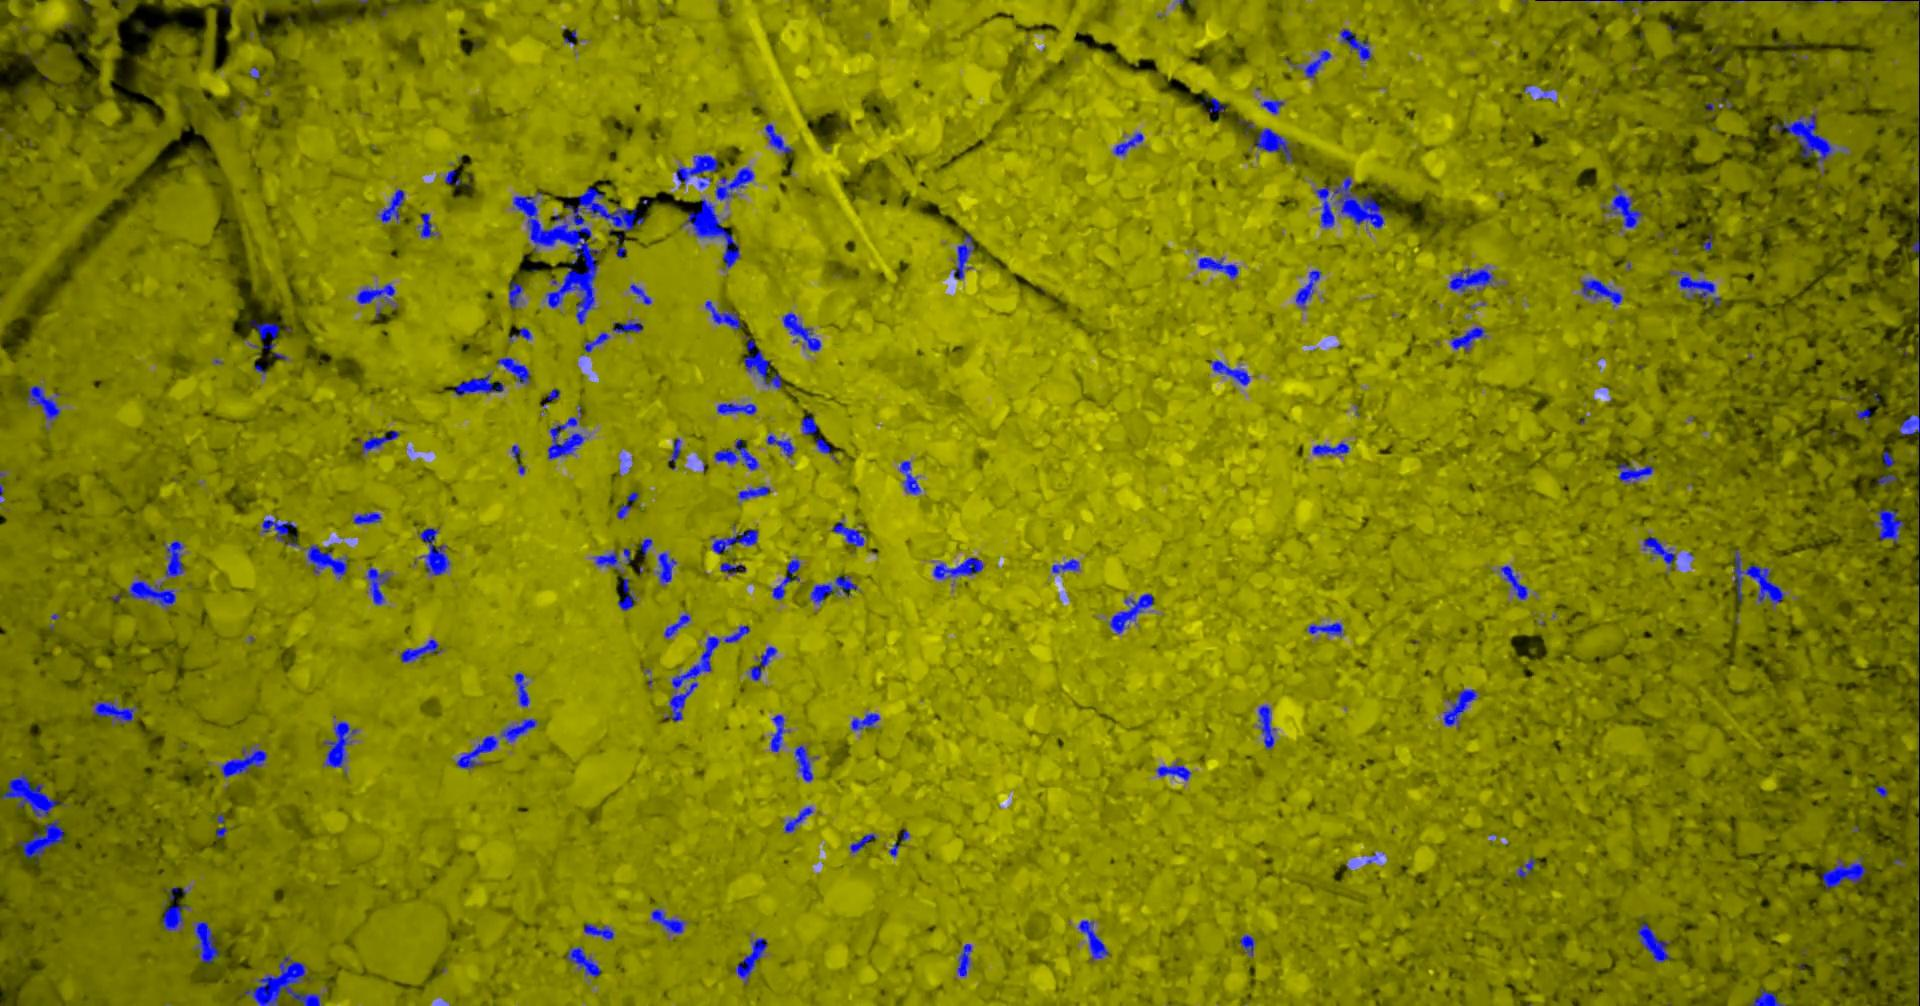ant: (455, 718, 537, 768), (1733, 549, 1784, 605), (15, 819, 63, 861), (743, 337, 781, 387), (1669, 269, 1721, 305), (1109, 593, 1153, 633), (1603, 184, 1642, 227), (323, 720, 357, 767), (547, 417, 585, 459), (734, 937, 767, 984), (418, 527, 450, 575), (782, 312, 822, 351), (1898, 371, 1919, 445), (218, 746, 265, 777), (1821, 856, 1865, 889), (712, 438, 758, 470), (1250, 127, 1291, 161), (1636, 922, 1671, 962), (676, 154, 717, 187), (307, 544, 347, 578), (809, 575, 857, 603), (127, 580, 175, 608), (1284, 50, 1331, 77), (1443, 688, 1477, 727), (714, 166, 753, 199), (25, 384, 60, 420), (1078, 920, 1109, 960), (1578, 278, 1622, 306), (1448, 265, 1495, 291), (711, 528, 758, 554), (1642, 536, 1676, 570), (771, 558, 799, 600), (932, 556, 983, 579), (91, 700, 137, 725), (453, 373, 503, 396), (703, 300, 740, 330), (192, 920, 218, 962), (1338, 28, 1371, 60), (1872, 509, 1903, 542), (565, 946, 599, 977), (952, 232, 974, 279), (1498, 565, 1528, 600), (1210, 359, 1250, 385), (356, 431, 399, 453), (1295, 269, 1321, 307), (376, 188, 404, 222), (792, 744, 818, 781), (400, 639, 441, 662), (1450, 326, 1487, 351), (497, 357, 530, 384), (749, 647, 776, 680), (1197, 257, 1238, 278), (262, 516, 296, 541), (366, 567, 389, 605), (650, 908, 684, 934), (356, 282, 394, 304), (764, 123, 792, 152), (1257, 704, 1275, 749), (163, 901, 189, 931), (832, 521, 863, 546), (1617, 461, 1653, 483), (164, 539, 184, 577), (1911, 899, 1919, 1001), (898, 460, 919, 494), (1156, 760, 1191, 780), (783, 807, 811, 832), (770, 714, 789, 751), (1112, 132, 1143, 155), (593, 550, 623, 573), (663, 612, 690, 638), (766, 433, 794, 457), (1749, 987, 1785, 1005), (657, 551, 676, 584), (249, 319, 279, 339), (513, 672, 530, 708), (616, 492, 637, 518), (617, 577, 634, 610), (583, 332, 610, 352), (850, 713, 879, 730), (1307, 622, 1343, 636), (583, 922, 613, 939), (956, 942, 971, 976), (716, 401, 756, 414), (850, 833, 875, 852), (1312, 442, 1349, 455), (629, 283, 651, 304), (612, 318, 643, 333), (737, 485, 770, 499), (417, 212, 434, 238), (1051, 558, 1079, 572), (350, 511, 381, 523), (1516, 856, 1535, 876), (508, 281, 522, 307), (1260, 98, 1283, 113), (669, 438, 681, 469), (1239, 934, 1255, 956), (720, 561, 745, 574), (508, 326, 531, 340), (1205, 97, 1225, 112), (215, 813, 227, 837), (800, 417, 817, 434), (165, 887, 187, 899), (444, 169, 460, 185), (1854, 408, 1870, 423), (1877, 473, 1896, 485), (615, 234, 625, 257), (815, 438, 830, 453), (1882, 448, 1895, 466), (640, 539, 651, 558), (1702, 232, 1712, 251), (1614, 0, 1662, 4), (546, 387, 559, 400), (1873, 785, 1887, 796), (1787, 0, 1849, 3), (1917, 113, 1919, 169)
